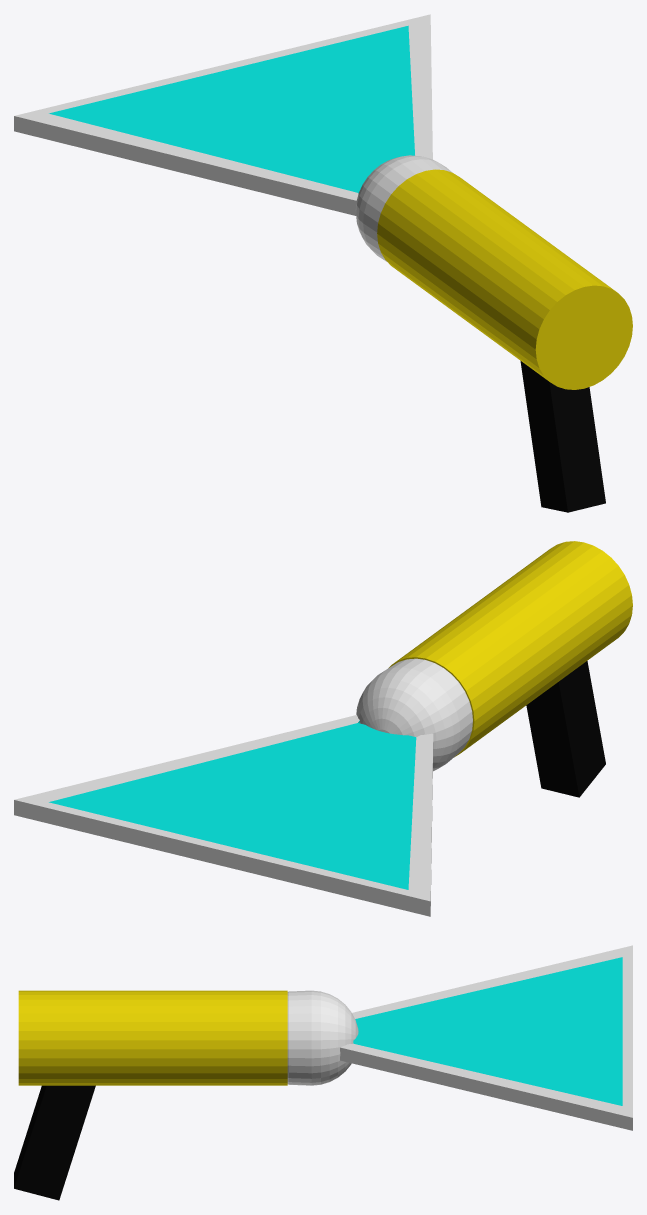
File: WaterGun1.fbx
3 views of the same model, one above another, from view 1: azimuth 30°, elevation 25°; view 2: azimuth 150°, elevation 25°; view 3: azimuth 270°, elevation 25° (orthographic). The views are drawn at different scales.
Visible parts, largest first — view 1: Cube, Cylinder, Cube.001, Sphere; view 2: Cube, Cylinder, Sphere, Cube.001; view 3: Cube, Cylinder, Cube.001, Sphere.
Boxes of the visible parts, x1,y1,x2,y2 form: Cube: (14, 14, 432, 215); Cylinder: (377, 169, 632, 389); Cube.001: (520, 361, 605, 512); Sphere: (355, 155, 452, 261); Cube: (14, 715, 433, 916); Cylinder: (389, 541, 632, 757); Sphere: (356, 658, 472, 771); Cube.001: (526, 661, 605, 797); Cube: (340, 945, 632, 1130); Cylinder: (18, 990, 287, 1085); Cube.001: (14, 1085, 95, 1200); Sphere: (287, 990, 358, 1085).
Size of the model in its own units: 303 by 162 by 460.
